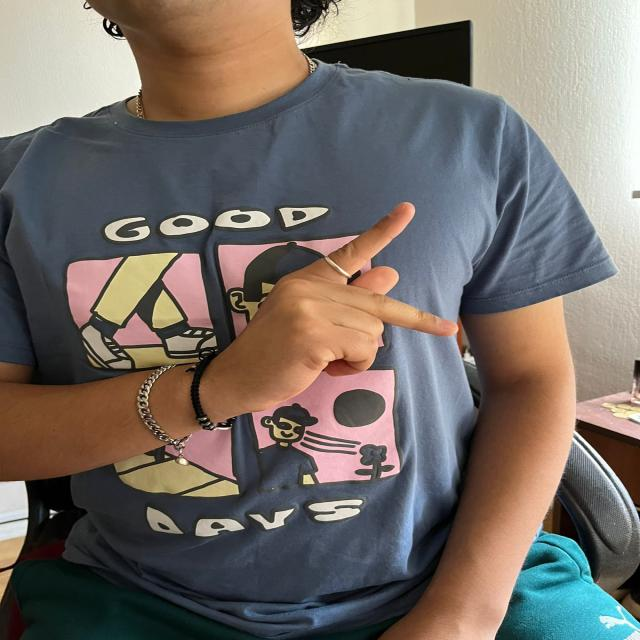K: (226, 186, 462, 414)
